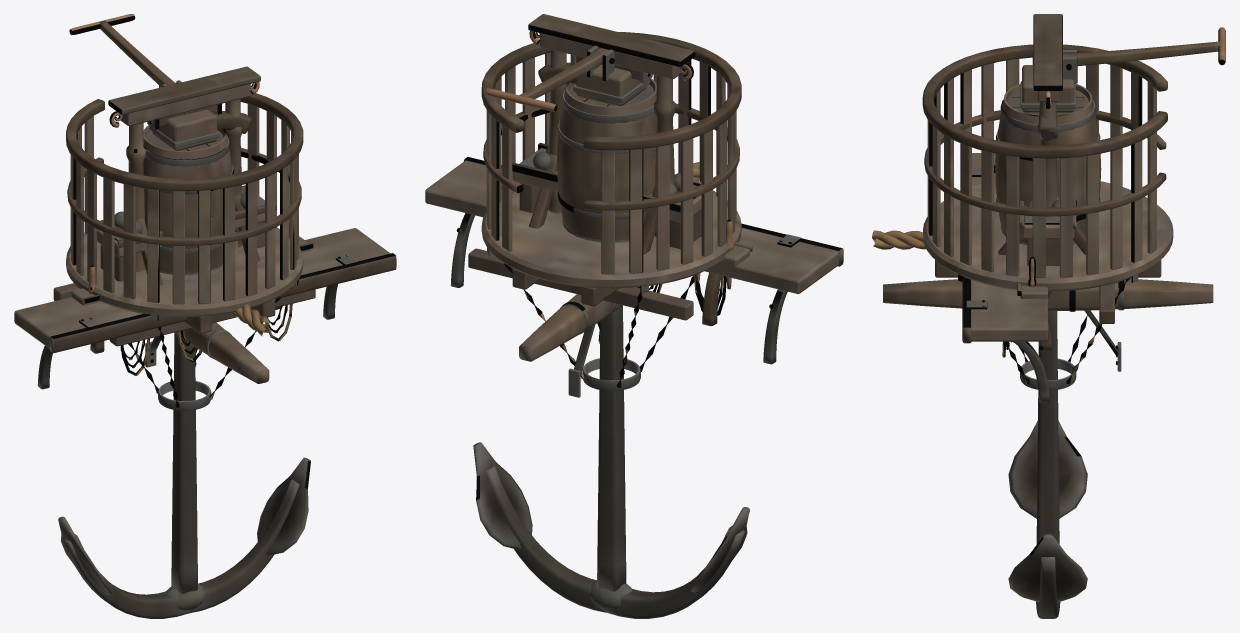
File: ship_kit_b.glb
The picture shows the model from 3 angles, left to right: view 1: azimuth 30°, elevation 25°; view 2: azimuth 150°, elevation 25°; view 3: azimuth 270°, elevation 25°; orthographic projection. The views are drawn at different scales.
Visible parts, largest first — view 1: crows_nest, anchor, channel, bell_belfry, barrel, bilge_pump, pin_rail, cannonball_rack, bilge_pump_handle, anchor_cable; view 2: crows_nest, anchor, barrel, channel, bell_belfry, cannonball_rack, bilge_pump, pin_rail, bilge_pump_handle, deadeye_pair; view 3: crows_nest, anchor, barrel, channel, bell_belfry, bilge_pump, bilge_pump_handle, cannonball_rack, anchor_cable, pin_rail.
Boxes of the visible parts, x1,y1,x2,y2 form: crows_nest: [53, 83, 315, 410]; anchor: [58, 322, 310, 618]; channel: [14, 228, 396, 389]; bell_belfry: [108, 66, 260, 285]; barrel: [143, 125, 233, 275]; bilge_pump: [149, 80, 251, 150]; pin_rail: [71, 219, 313, 375]; cannonball_rack: [97, 185, 276, 281]; bilge_pump_handle: [69, 14, 192, 113]; anchor_cable: [230, 304, 271, 336]; crows_nest: [468, 32, 741, 390]; anchor: [473, 287, 749, 618]; barrel: [556, 78, 656, 242]; channel: [425, 157, 843, 364]; bell_belfry: [528, 14, 695, 254]; cannonball_rack: [512, 142, 701, 249]; bilge_pump: [538, 45, 649, 106]; pin_rail: [501, 185, 752, 325]; bilge_pump_handle: [485, 48, 608, 111]; deadeye_pair: [568, 325, 595, 397]; crows_nest: [922, 44, 1173, 390]; anchor: [883, 278, 1213, 618]; barrel: [994, 83, 1101, 245]; channel: [962, 153, 1049, 402]; bell_belfry: [998, 14, 1085, 254]; bilge_pump: [1020, 49, 1077, 140]; bilge_pump_handle: [1063, 27, 1225, 66]; cannonball_rack: [1019, 199, 1076, 265]; anchor_cable: [872, 230, 925, 249]; pin_rail: [1002, 257, 1051, 357].
Bounding box in the file's own units: 2.4 × 3.55 × 2.03.
Materials: 2 (1 with a texture image).
